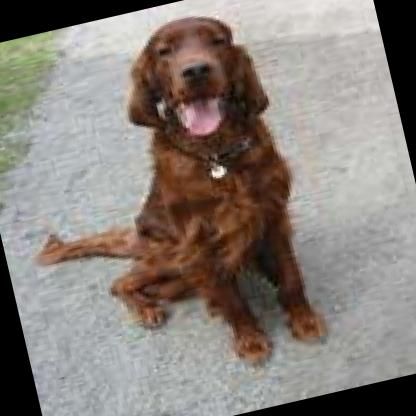Irish_setter: (0, 0, 341, 413)
